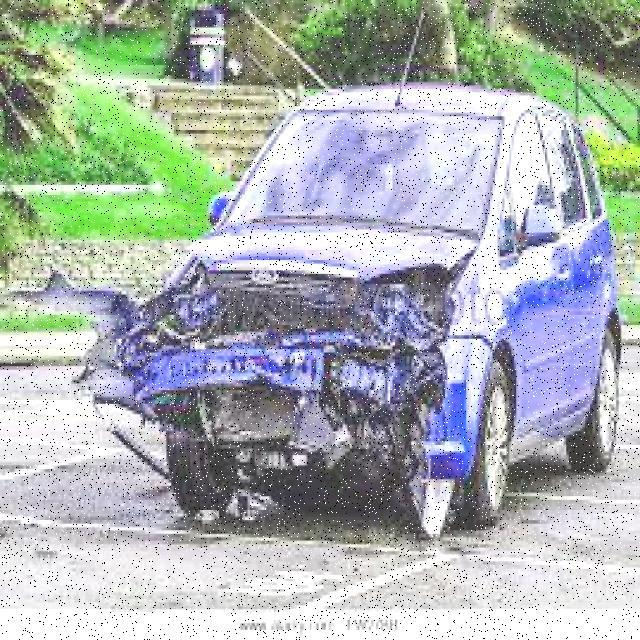car damage: (16, 242, 478, 541)
